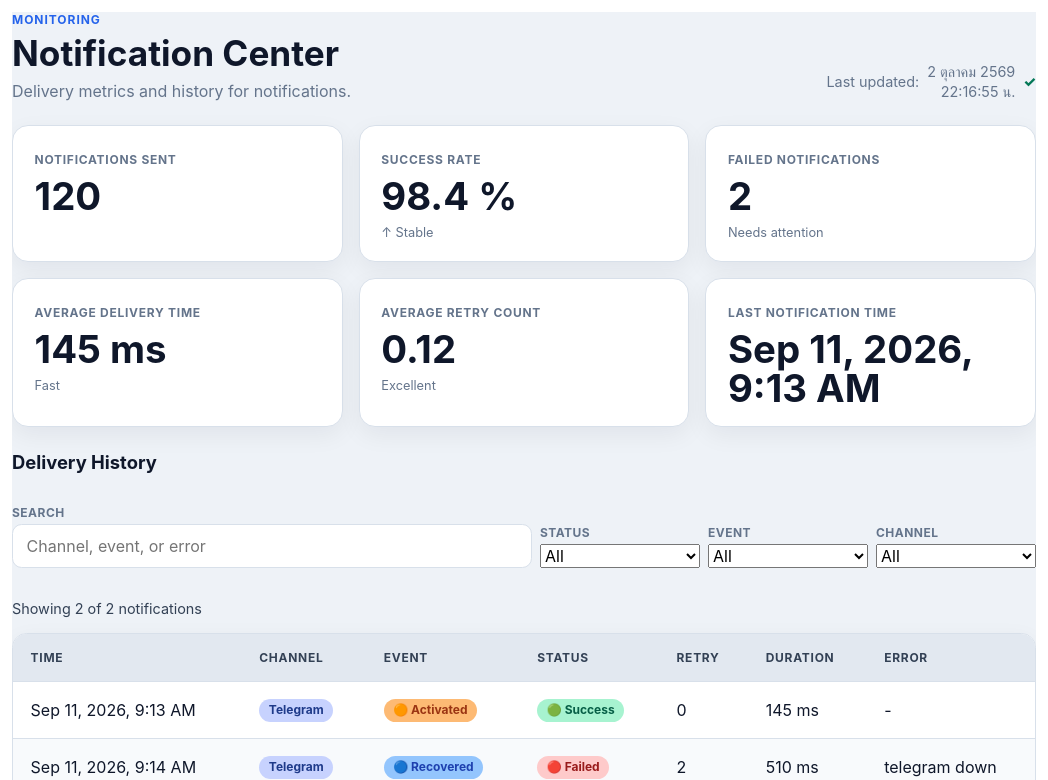
Test case: Notification Center page › filters delivery history by event
Expected: the text "Showing 2 of 2 notifications" is shown, top-left (12, 600), bottom-right (202, 618)
Select "Recovered" in the dropdown labelled "Event" at (788, 556), box top-left (708, 544), bottom-right (868, 568)
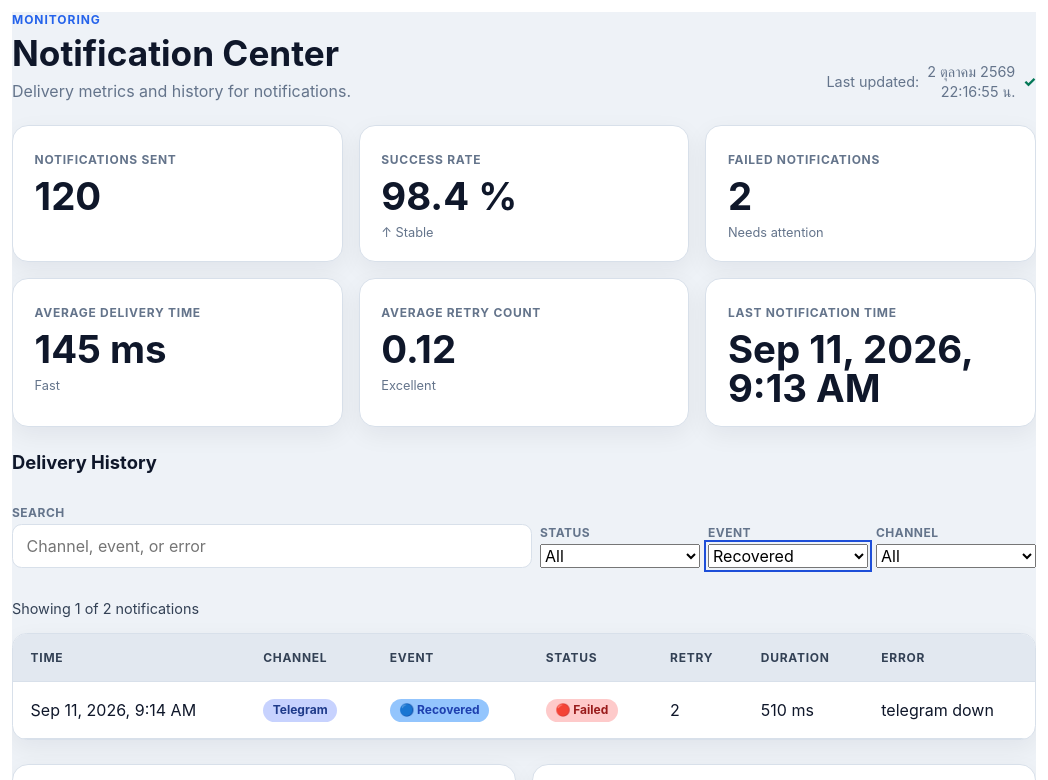
Expected: the text "🔵 Recovered" is shown, top-left (390, 699), bottom-right (489, 722)
Result: the text "Showing 1 of 2 notifications" is shown at top-left (12, 600), bottom-right (199, 618)
Result: the element named "Delivery history table" no longer shows "🟠 Activated" at top-left (12, 634), bottom-right (1036, 740)
